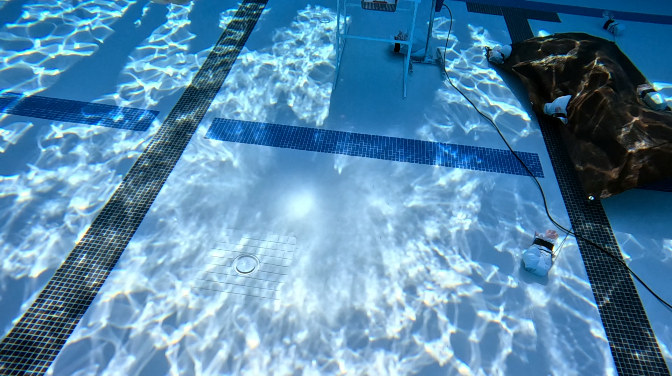sandbag: (488, 24, 671, 194)
